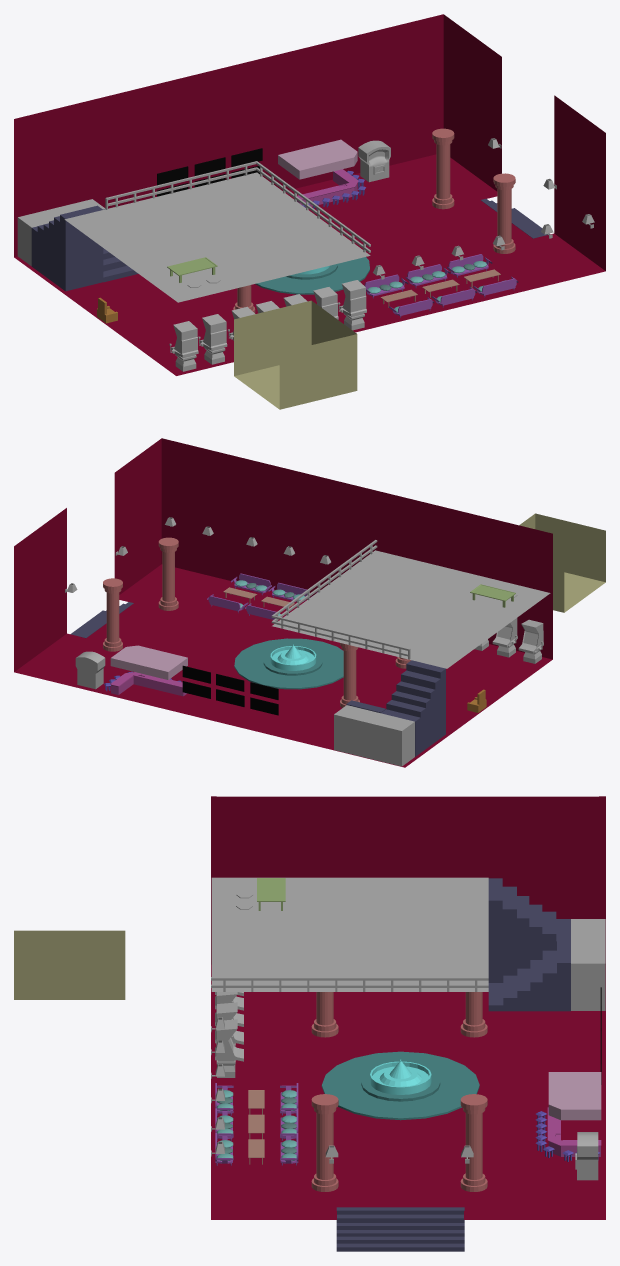
File: Casino.fbx
3 views of the same model, one above another, from view 1: azimuth 30°, elevation 25°; view 2: azimuth 150°, elevation 25°; view 3: azimuth 270°, elevation 25° (orthographic). The views are drawn at different scales.
Parts seen in each view (by area): view 1: pPlane1, pPlane3, pPlane2, pCube18, pCube61, pCylinder10, pCube11, pCube19, pCylinder4, pCylinder11, pCube21, pCube27 (+7 smaller); view 2: pPlane1, pPlane3, pPlane2, pCube19, pCylinder10, pCube18, pCube61, pCube11, pCylinder4, pCylinder11, pCube1, pCylinder9 (+6 smaller); view 3: pPlane1, pPlane3, pPlane2, pCylinder10, pCube4, pCube18, pCube17, pCube19, pCube61, pCube11, pCylinder11, pCylinder4 (+7 smaller).
Boxes of the visible parts, left/top/right/bottom form: pPlane1: left=14, top=14, right=605, bottom=375; pPlane3: left=64, top=172, right=370, bottom=302; pPlane2: left=234, top=300, right=357, bottom=409; pCube18: left=31, top=205, right=103, bottom=291; pCube61: left=107, top=161, right=370, bottom=252; pCylinder10: left=255, top=257, right=369, bottom=294; pCube11: left=278, top=139, right=357, bottom=179; pCube19: left=17, top=199, right=105, bottom=265; pCylinder4: left=432, top=128, right=454, bottom=209; pCylinder11: left=493, top=173, right=515, bottom=253; pCube21: left=358, top=140, right=390, bottom=182; pCube27: left=198, top=314, right=227, bottom=364; pPlane1: left=14, top=438, right=552, bottom=767; pPlane3: left=272, top=550, right=550, bottom=668; pPlane2: left=519, top=513, right=605, bottom=612; pCube19: left=334, top=705, right=414, bottom=766; pCylinder10: left=234, top=638, right=343, bottom=689; pCube18: left=381, top=660, right=445, bottom=756; pCube61: left=271, top=540, right=408, bottom=657; pCube11: left=110, top=645, right=187, bottom=679; pCylinder4: left=103, top=578, right=122, bottom=651; pCylinder11: left=158, top=537, right=178, bottom=610; pCube1: left=110, top=672, right=186, bottom=696; pCylinder9: left=270, top=644, right=316, bottom=670; pPlane1: left=211, top=796, right=605, bottom=1219; pPlane3: left=211, top=877, right=488, bottom=991; pPlane2: left=14, top=930, right=125, bottom=999; pCylinder10: left=321, top=1051, right=479, bottom=1120; pCube4: left=336, top=1207, right=464, bottom=1251; pCube18: left=488, top=878, right=570, bottom=982; pCube17: left=488, top=940, right=570, bottom=1011; pCube19: left=571, top=919, right=605, bottom=1010; pCube61: left=211, top=889, right=488, bottom=991; pCube11: left=548, top=1072, right=601, bottom=1120; pCylinder11: left=311, top=1094, right=338, bottom=1191; pCylinder4: left=460, top=1094, right=487, bottom=1191.
Size of the model in its own units: 72.52 by 24.73 by 69.02.
